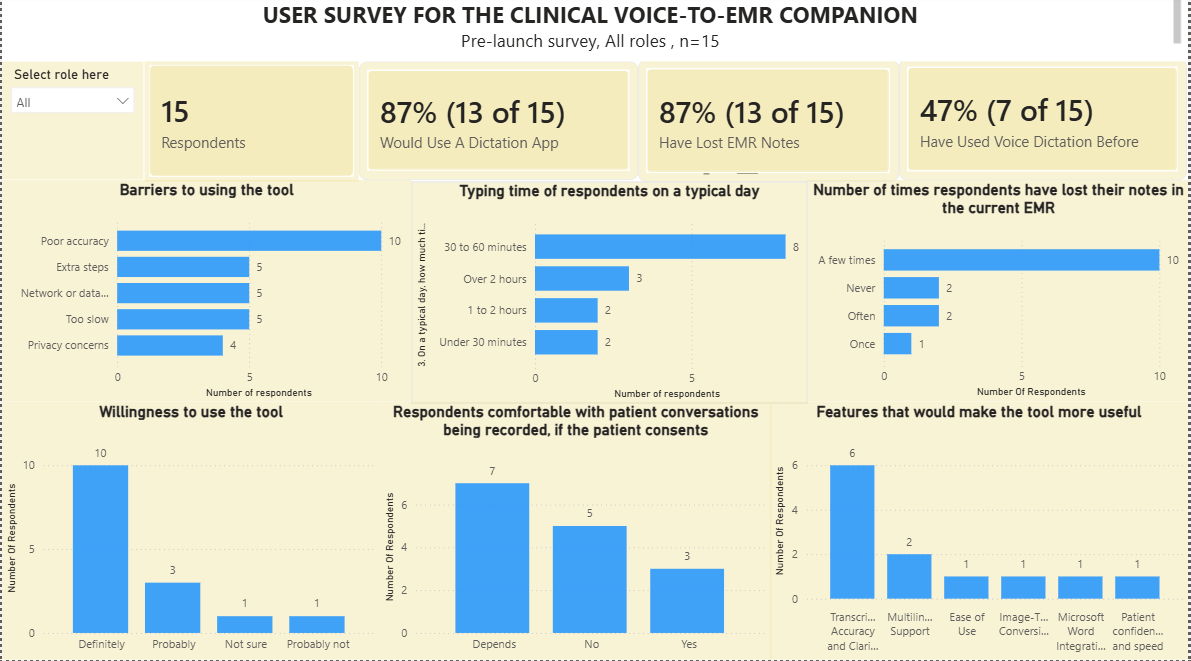

What the dashboard file says about the page in this screenshot:
{"tool":"powerbi","page":{"name":"Pre-Launch","canvas":[1280,720],"ordinal":0},"visuals":[{"type":"group","id":"g1","title":"Group 1","box":[442.6,202,427.5,239.6],"z":0},{"type":"clusteredBarChart","title":"Typing time of respondents on a typical day","fields":{"Category":["Form_Responses.3. On a typical day, how much time do you spend typing notes in the EMR?"],"Y":["Count(Form_Responses.Respondent_ID)"]},"box":[442.6,202,427.5,239.6],"z":0,"group":"g1"},{"type":"cardVisual","fields":{"Data":["Count(Form_Responses.Respondent_ID)"]},"box":[153.8,71.2,231.5,131.2],"z":1000},{"type":"clusteredColumnChart","title":"Willingness to use the tool","fields":{"Category":["Form_Responses.11. Would you use a phone app that turns your dictation into text you can paste into the EMR?"],"Y":["Count(Form_Responses.Respondent_ID)"]},"box":[0,441.2,408.2,279.3],"z":2000},{"type":"clusteredBarChart","title":"Number of times respondents have lost their notes in the current EMR","fields":{"Category":["Form_Responses.6. Has the EMR ever crashed or lost your notes?"],"Y":["Count(Form_Responses.Respondent_ID)"]},"box":[869.5,200.5,412.5,239.2],"z":3000},{"type":"clusteredBarChart","title":"Barriers to using the tool","fields":{"Category":["Form_Responses.What would stop you from using it?"],"Y":["Count(Form_Responses.Respondent_ID)"]},"box":[0,200.5,442,239.6],"z":4000},{"type":"slicer","fields":{"Values":["Form_Responses.1. What is your role?"]},"box":[0,72.7,152.9,127.2],"z":5000},{"type":"cardVisual","fields":{"Data":["Form_Responses.Would Use Label"]},"box":[374,72.9,312.5,131.2],"z":6000},{"type":"cardVisual","fields":{"Data":["Form_Responses.Used Dictation Label"]},"box":[968.3,69.6,310.9,131.2],"z":7000},{"type":"cardVisual","fields":{"Data":["Form_Responses.Lost Notes Label"]},"box":[686.6,71.2,281.7,131.2],"z":8000},{"type":"clusteredColumnChart","title":"Respondents comfortable with patient conversations being recorded, if the patient consents","fields":{"Category":["Form_Responses.14. Are you comfortable with patient conversations being recorded, if the patient consents?"],"Y":["Count(Form_Responses.Respondent_ID)"]},"box":[408.2,441.2,422.6,279.3],"z":9000},{"type":"columnChart","title":"Features that would make the tool more useful","fields":{"Category":["Form_Responses.15. What one feature would make this tool truly useful for you?"],"Y":["Count(Form_Responses.Respondent_ID)"]},"box":[829.4,441.2,451.2,279.3],"z":10000},{"type":"textbox","box":[0,0,1278,72.7],"z":12000}]}

Visuals, with their boxes in screenshot pixels (x1, y1, x2, y2), scaled from the page's 1280x720 canvas onto the 1191x661 screenshot:
"Group 1" group: <bbox>412, 185, 810, 405</bbox>
"Typing time of respondents on a typical day" clusteredBarChart: <bbox>412, 185, 810, 405</bbox>
cardVisual - Count(Form_Responses.Respondent_ID): <bbox>143, 65, 359, 186</bbox>
"Willingness to use the tool" clusteredColumnChart: <bbox>0, 405, 380, 660</bbox>
"Number of times respondents have lost their notes in the current EMR" clusteredBarChart: <bbox>809, 184, 1190, 404</bbox>
"Barriers to using the tool" clusteredBarChart: <bbox>0, 184, 411, 404</bbox>
slicer - Form_Responses.1. What is your role?: <bbox>0, 67, 142, 184</bbox>
cardVisual - Form_Responses.Would Use Label: <bbox>348, 67, 639, 187</bbox>
cardVisual - Form_Responses.Used Dictation Label: <bbox>901, 64, 1190, 184</bbox>
cardVisual - Form_Responses.Lost Notes Label: <bbox>639, 65, 901, 186</bbox>
"Respondents comfortable with patient conversations being recorded, if the patient consents" clusteredColumnChart: <bbox>380, 405, 773, 660</bbox>
"Features that would make the tool more useful" columnChart: <bbox>772, 405, 1190, 660</bbox>
textbox: <bbox>0, 0, 1189, 67</bbox>
